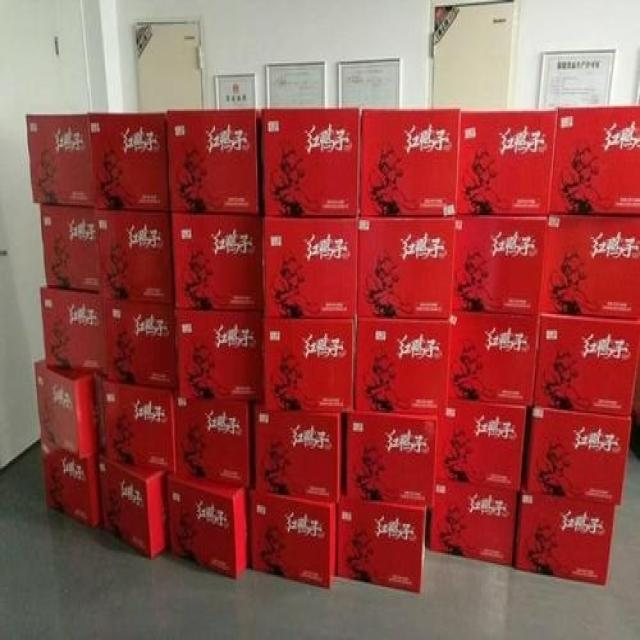box: (358, 108, 461, 217), (261, 106, 360, 218), (457, 109, 558, 218), (524, 410, 634, 510), (536, 317, 640, 418), (541, 213, 640, 319), (169, 109, 264, 215), (356, 217, 456, 317), (260, 217, 358, 319), (453, 215, 550, 317), (356, 317, 453, 416), (552, 106, 640, 215), (515, 492, 617, 584), (172, 212, 265, 312), (177, 309, 268, 410), (433, 401, 530, 495), (166, 473, 252, 579), (266, 316, 357, 415), (253, 404, 343, 503), (337, 495, 426, 594), (449, 317, 541, 410), (344, 415, 436, 507), (250, 493, 338, 589), (87, 113, 170, 212), (428, 481, 522, 568), (97, 210, 177, 309), (26, 113, 99, 212), (101, 454, 170, 558), (105, 377, 177, 476), (104, 299, 179, 394), (32, 358, 100, 459), (175, 404, 253, 488), (41, 435, 102, 526), (41, 287, 106, 369), (63, 208, 102, 297), (40, 203, 70, 288)
